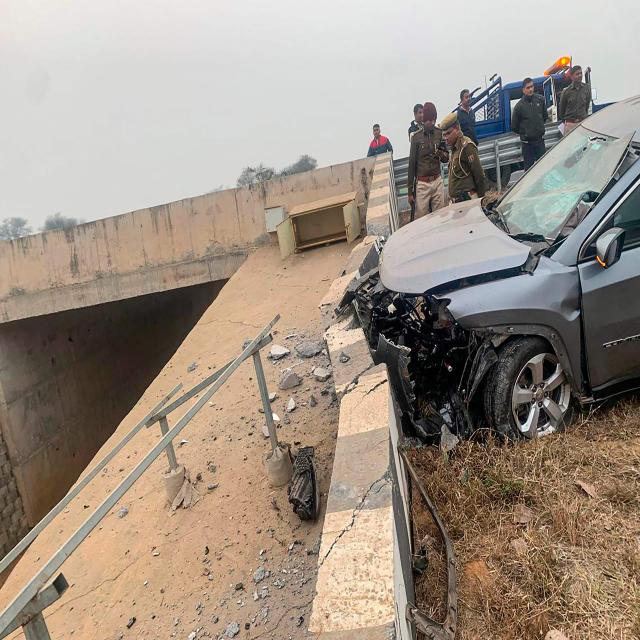accident: (346, 95, 640, 443)
